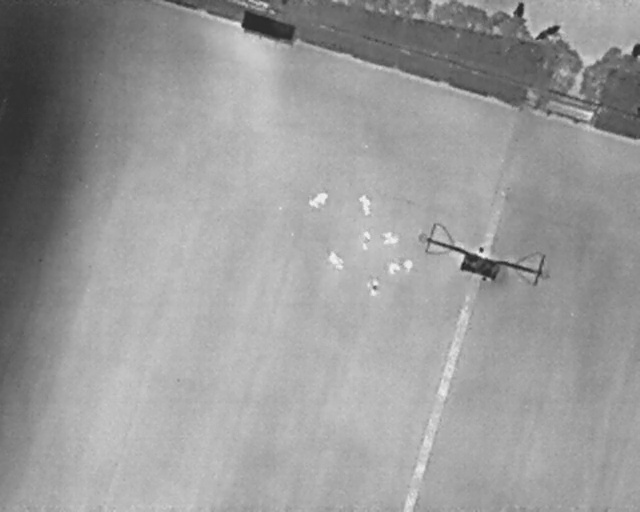Person: (304, 186, 331, 213), (323, 249, 349, 273), (356, 194, 373, 217), (378, 232, 400, 246), (365, 280, 381, 297), (360, 231, 372, 251), (386, 262, 401, 275), (402, 259, 414, 271)
